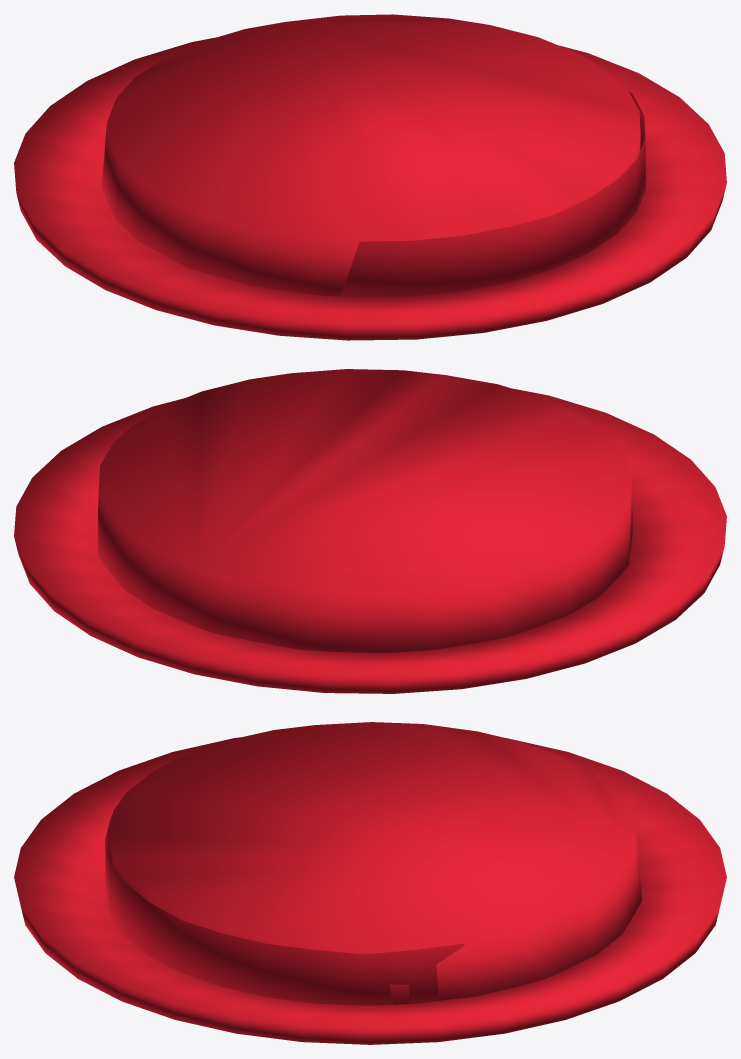
File: tortilla.fbx
The picture shows the model from 3 angles, top to bottom: view 1: azimuth 30°, elevation 25°; view 2: azimuth 150°, elevation 25°; view 3: azimuth 270°, elevation 25°; orthographic projection.
Parts seen in each view (by area): view 1: tortilla; view 2: tortilla; view 3: tortilla.
Boxes of the visible parts, box(x1,y1,x2,y2) form: tortilla: box(14, 14, 726, 340); tortilla: box(14, 369, 726, 693); tortilla: box(14, 722, 726, 1044).
Bounding box in the file's own units: 178 × 26.94 × 178.
